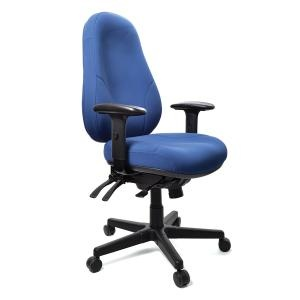chair: (82, 12, 232, 288)
